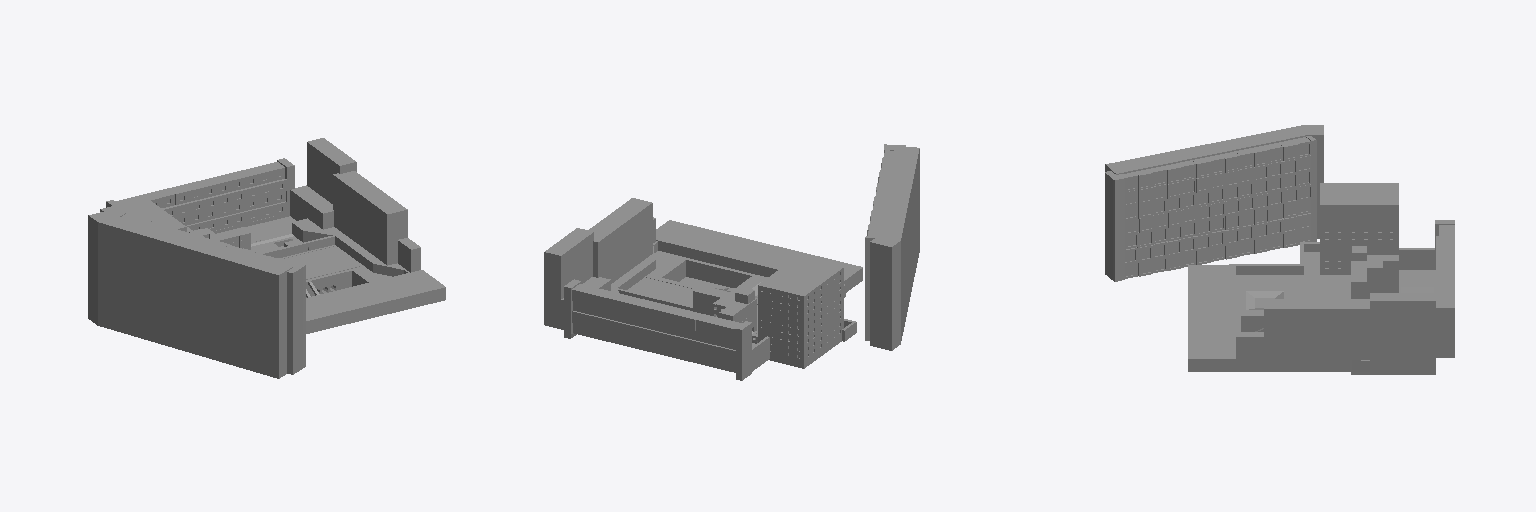
Rendered from Start.obj.
3 views of the same model, side by side, from view 1: azimuth 30°, elevation 25°; view 2: azimuth 150°, elevation 25°; view 3: azimuth 270°, elevation 25° (orthographic).
Parts seen in each view (by area): view 1: ResultMap_Map_MESH.1765; view 2: ResultMap_Map_MESH.1765; view 3: ResultMap_Map_MESH.1765.
Boxes of the visible parts, x1=… form: ResultMap_Map_MESH.1765: x1=88, y1=138, x2=445, y2=378; ResultMap_Map_MESH.1765: x1=544, y1=144, x2=919, y2=380; ResultMap_Map_MESH.1765: x1=1105, y1=125, x2=1454, y2=374.
Bounding box in the file's own units: 211 × 83.28 × 220.